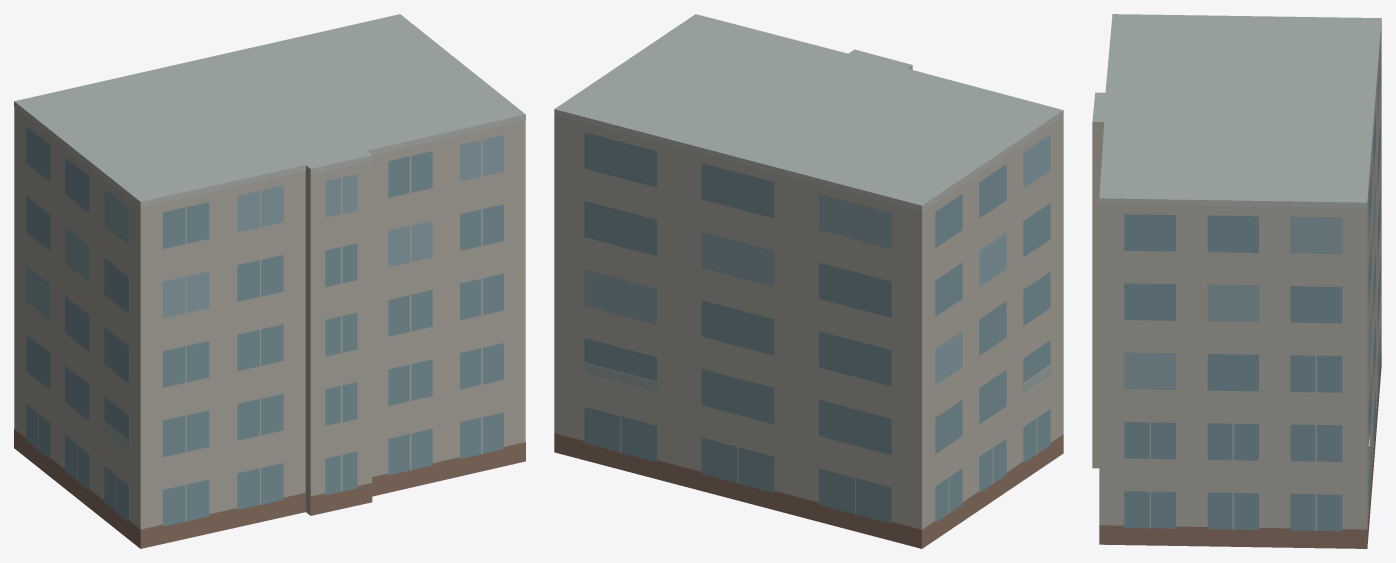
File: survey-upis-32760666.glb
3 renders of one model, left to right at view 1: azimuth 30°, elevation 25°; view 2: azimuth 150°, elevation 25°; view 3: azimuth 270°, elevation 25°, orthographic.
Visible parts, largest first — view 1: survey-upis-32760666.tmp; view 2: survey-upis-32760666.tmp; view 3: survey-upis-32760666.tmp.
Part boxes in pixels (bbox=[...]): survey-upis-32760666.tmp: bbox=[14, 14, 525, 548]; survey-upis-32760666.tmp: bbox=[554, 14, 1063, 548]; survey-upis-32760666.tmp: bbox=[1092, 14, 1381, 548].
Bounding box in the file's own units: 16.83 × 14.4 × 10.91.
